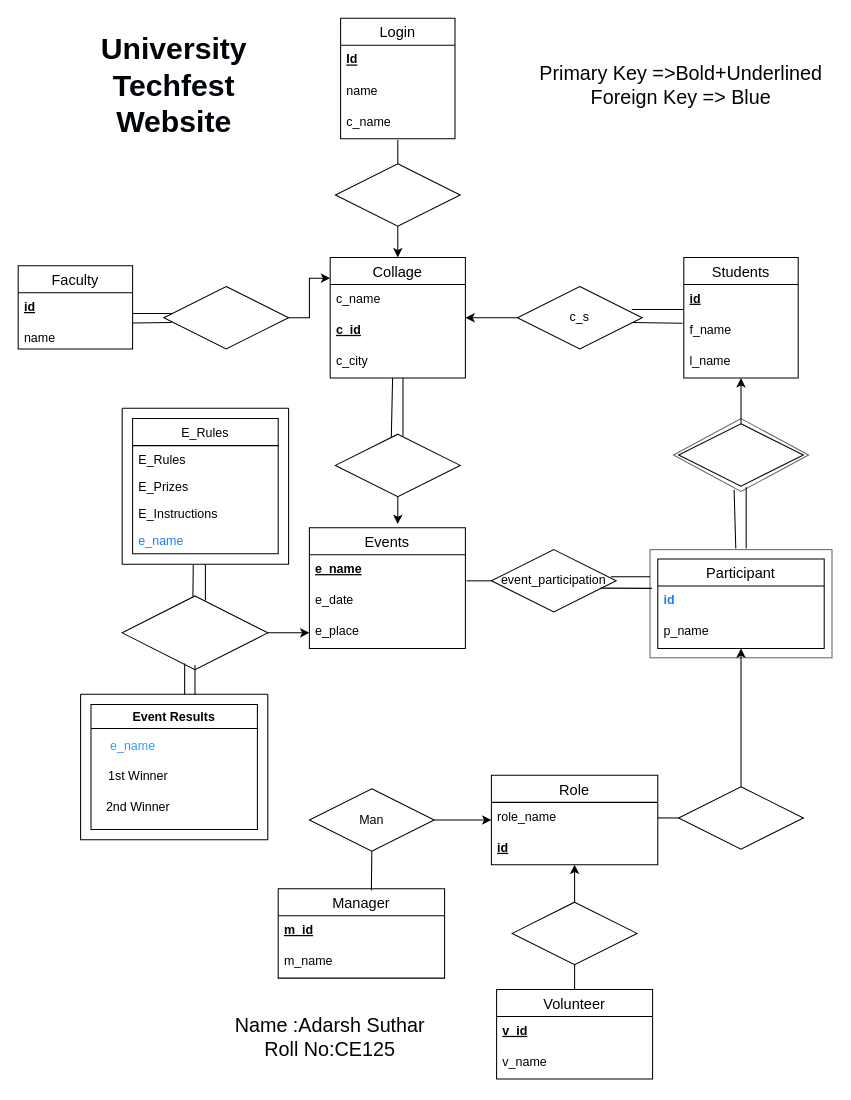
Some shapes in this 851 by 1100 pixel diagram are drawn without their labels. The shapes that lost their labels are listed below. From the top down, each one's centre as x and y in pixels, then its label:
(x=397, y=194): login_c
(x=226, y=317): f_c
(x=397, y=465): Event_w_clg
(x=740, y=454): student_join
(x=194, y=632): E_Details
(x=740, y=817): role_part
(x=574, y=933): vol
